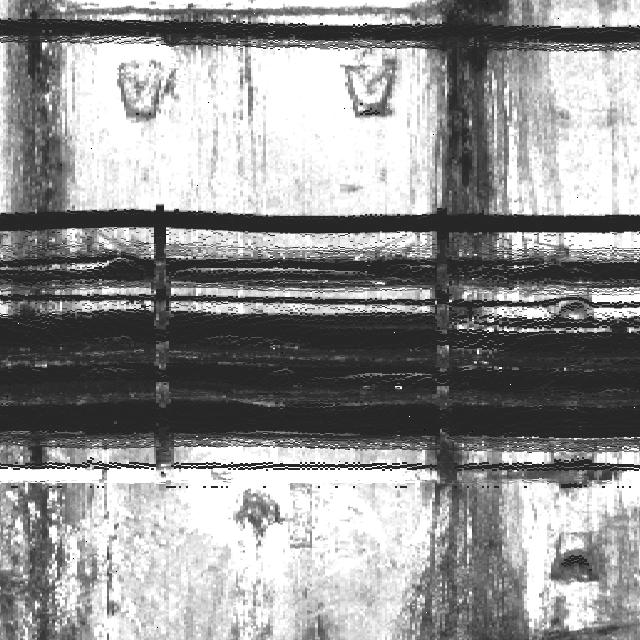leakage: (410, 1, 560, 319), (1, 3, 86, 323), (389, 448, 530, 640), (0, 454, 115, 640)
